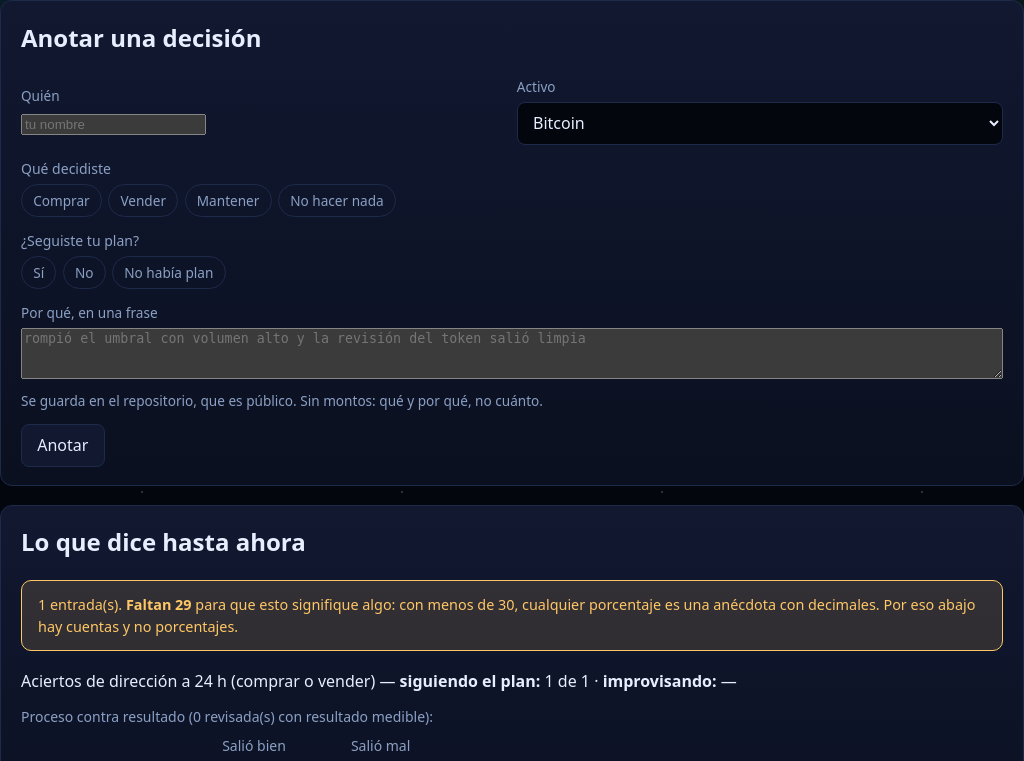
anotar › sin decisión no se envía
This screenshot has width=1024, height=761.
Step 1. Click the button "Anotar" → (63, 446), box [21, 424, 104, 467]
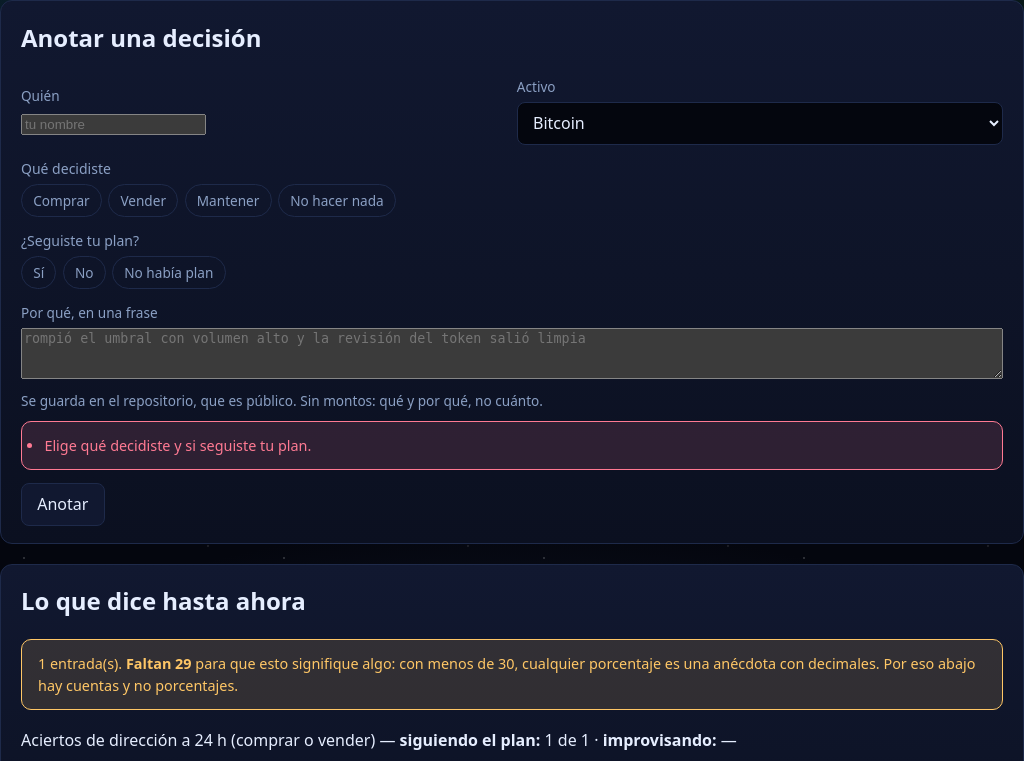
Now the list item "Elige qué decidiste y si seguiste tu plan." is shown, box [44, 436, 311, 455]
